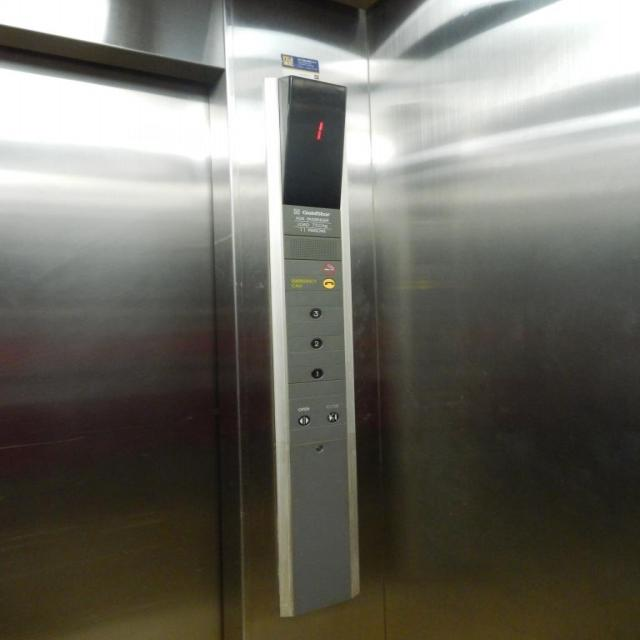1: (308, 366, 324, 379)
2: (308, 336, 324, 348)
3: (308, 306, 324, 320)
alarm: (320, 276, 335, 290)
close: (324, 410, 340, 423)
led: (275, 72, 356, 216)
open: (296, 413, 312, 426)
